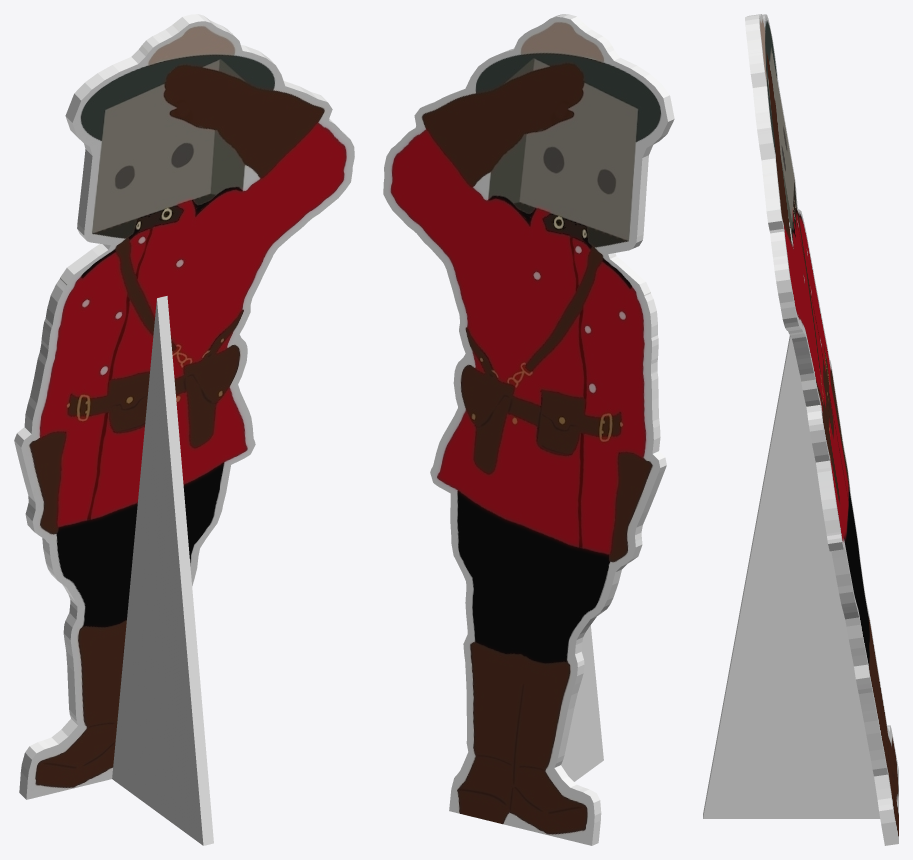
Rendered from mdl_zesty_standee.gltf.
The picture shows the model from 3 angles, left to right: view 1: azimuth 30°, elevation 25°; view 2: azimuth 150°, elevation 25°; view 3: azimuth 270°, elevation 25°; orthographic projection. The views are drawn at different scales.
Parts seen in each view (by area): view 1: mdl_zesty_standee; view 2: mdl_zesty_standee; view 3: mdl_zesty_standee.
Part boxes in pixels (bbox=[...]): mdl_zesty_standee: bbox=[14, 14, 354, 845]; mdl_zesty_standee: bbox=[383, 14, 674, 845]; mdl_zesty_standee: bbox=[703, 14, 898, 845].
Size of the model in its own units: 0.7798 by 1.92 by 0.4239.
Materials: 1 (1 with a texture image).
